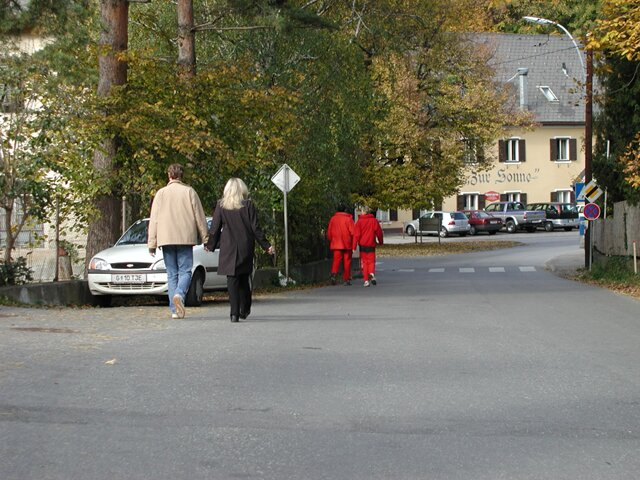person: (204, 167, 273, 320), (145, 161, 209, 323)
